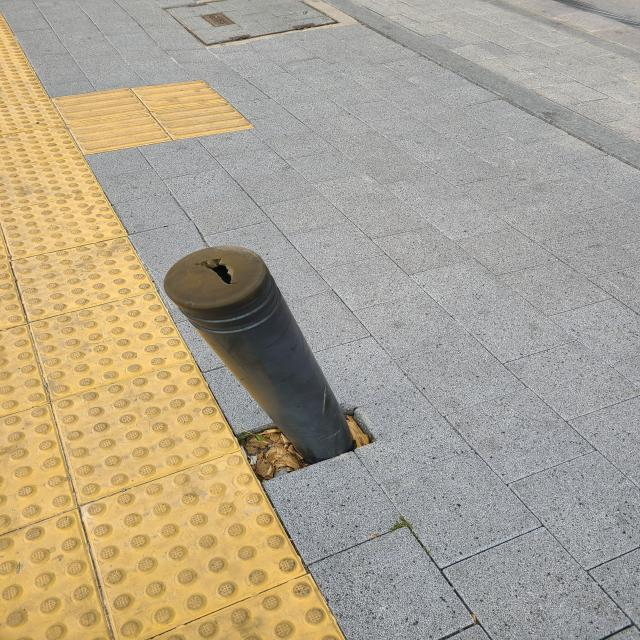pole: (162, 245, 362, 464)
